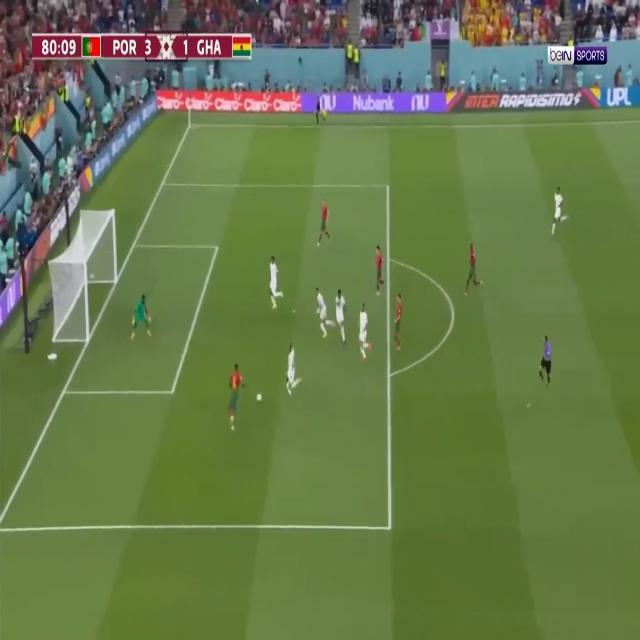ball: (256, 393, 262, 401)
team1: (225, 362, 249, 433), (464, 242, 484, 298), (392, 293, 405, 355), (316, 198, 332, 246), (373, 245, 385, 298)
team2: (315, 286, 335, 339), (267, 254, 284, 313), (285, 343, 303, 397), (356, 302, 372, 361), (552, 186, 570, 236), (336, 288, 348, 345)
